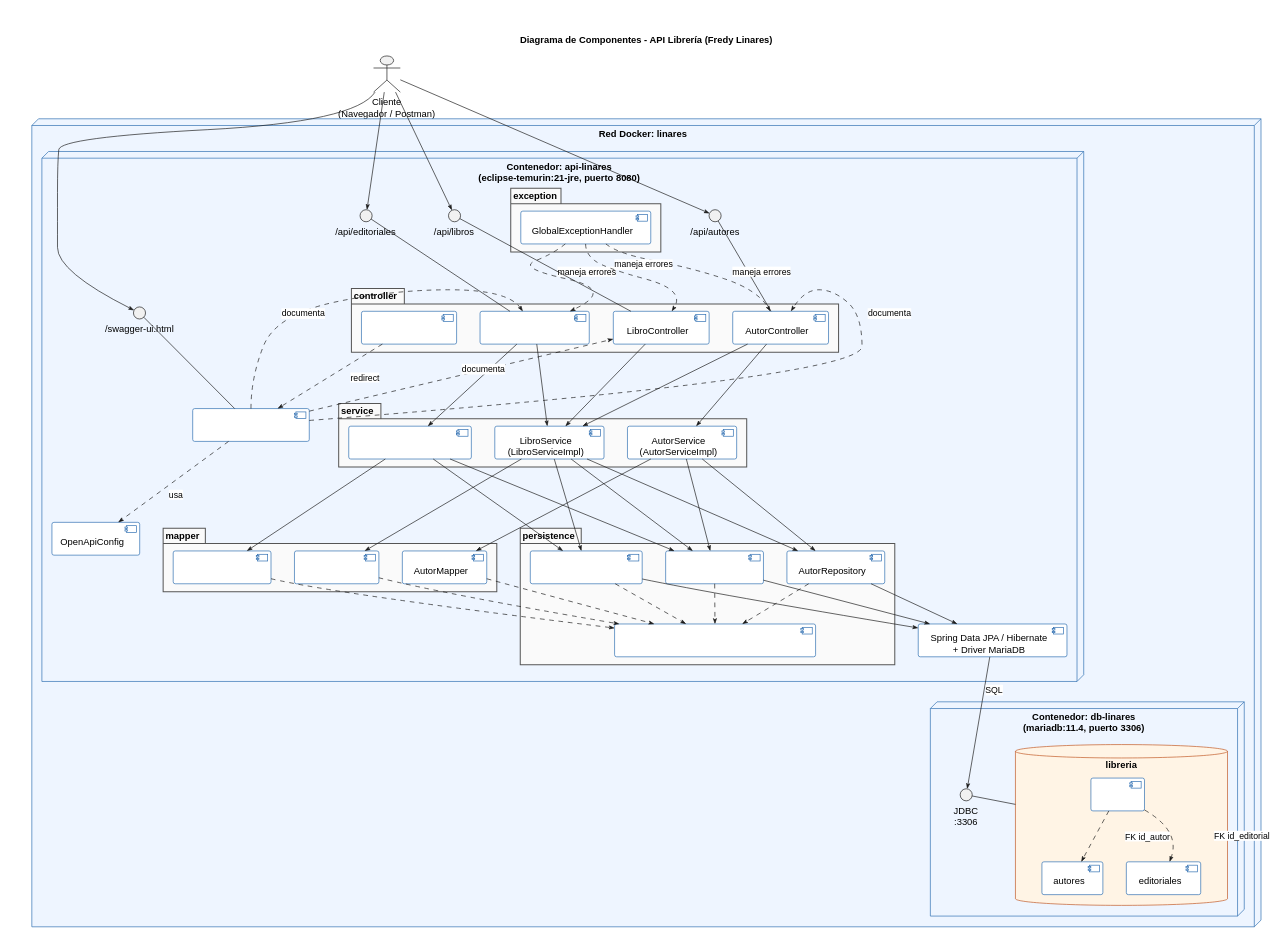
The diagram is 1282 pixels wide and 939 high, and some of its shapes have lost their labels. Each missing label, with the centre of its shape:
"EditorialController" belongs at point (534, 327).
"EditorialMapper" belongs at point (222, 567).
"EditorialRepository" belongs at point (586, 567).
"EditorialService (EditorialServiceImpl)" belongs at point (409, 442).
"Entidades JPA (AutorEntity, EditorialEntity, LibroEntity)" belongs at point (715, 640).
"HomeController" belongs at point (409, 327).
"LibroMapper" belongs at point (336, 567).
"LibroRepository" belongs at point (714, 567).
"libros" belongs at point (1117, 794).
"Swagger UI (springdoc-openapi)" belongs at point (250, 424).
